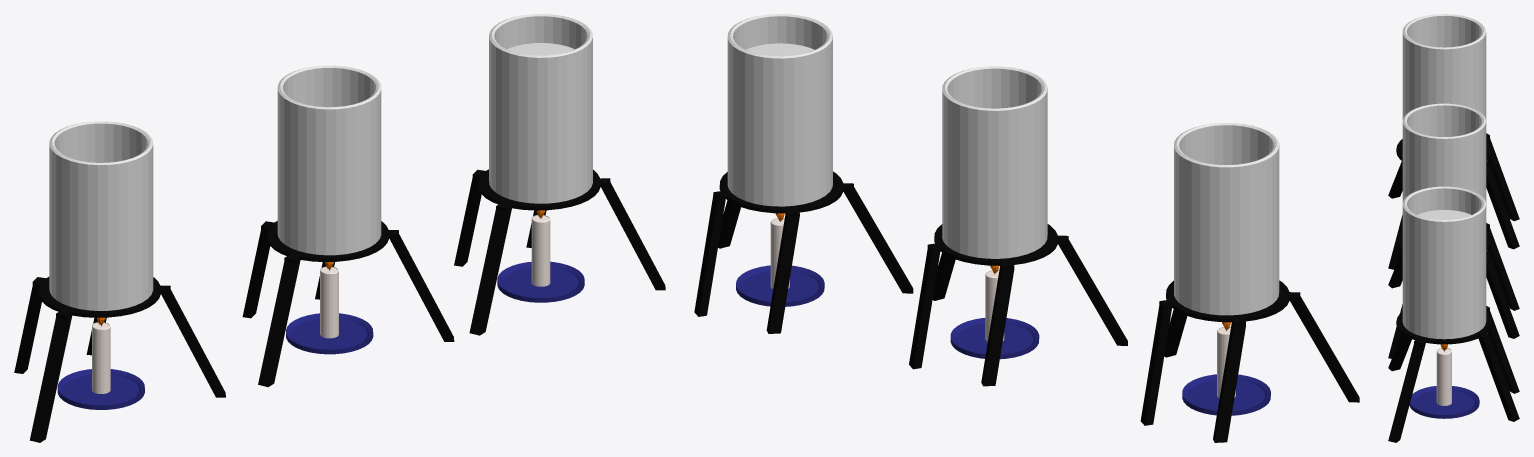
Rendered from Konveksi.fbx.
3 views of the same model, side by side, from view 1: azimuth 30°, elevation 25°; view 2: azimuth 150°, elevation 25°; view 3: azimuth 270°, elevation 25° (orthographic). The views are drawn at different scales.
Parts seen in each view (by area): view 1: Cylinder, Cylinder.001, Cylinder.002; view 2: Cylinder.002, Cylinder.001, Cylinder; view 3: Cylinder.002, Cylinder, Cylinder.001.
Boxes of the visible parts, x1,y1,x2,y2 form: Cylinder: [14, 121, 225, 442]; Cylinder.001: [242, 65, 454, 387]; Cylinder.002: [454, 14, 665, 335]; Cylinder.002: [694, 14, 913, 333]; Cylinder.001: [909, 66, 1127, 386]; Cylinder: [1140, 123, 1359, 442]; Cylinder.002: [1388, 186, 1519, 442]; Cylinder: [1388, 14, 1519, 269]; Cylinder.001: [1388, 103, 1519, 358].
Bounding box in the file's own units: 2414 × 915 × 538.
